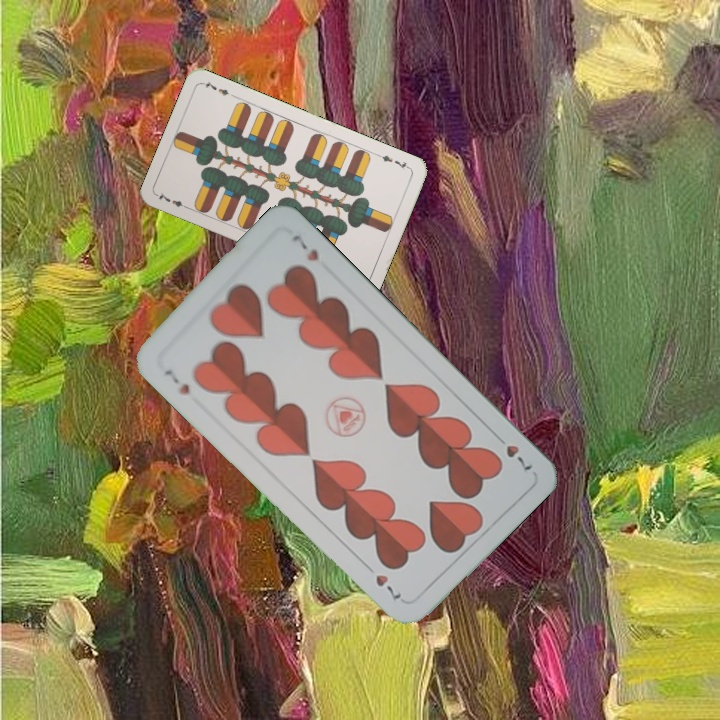E7: (153, 188, 192, 212), (374, 150, 413, 172)
H7: (490, 429, 535, 473), (160, 365, 193, 398)
